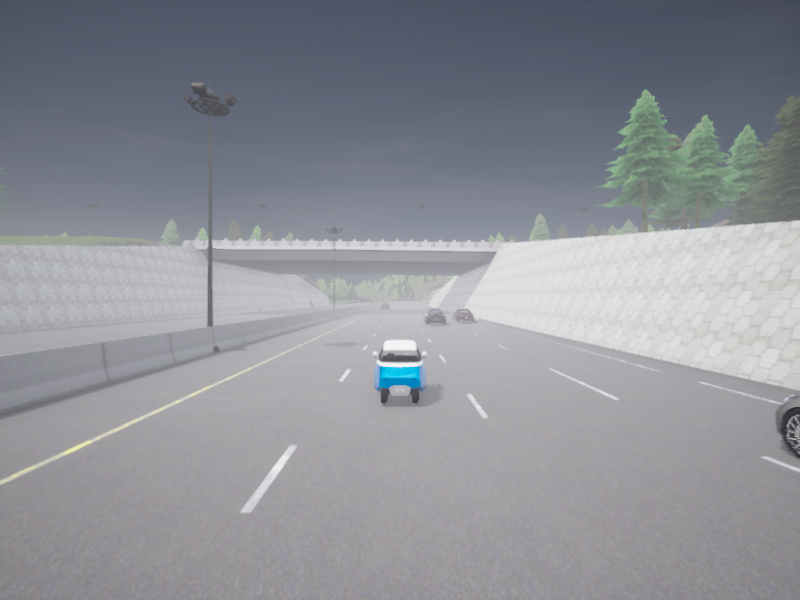vehicle: (372, 340, 427, 403), (775, 393, 799, 458), (424, 308, 445, 323), (453, 309, 473, 321), (381, 303, 389, 309)
